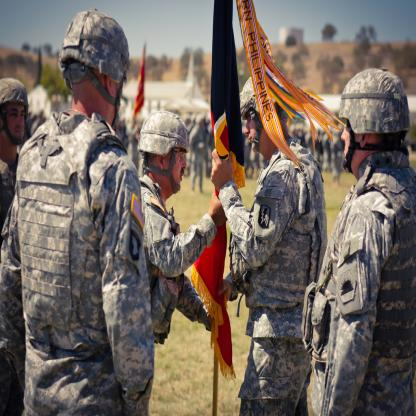Helmet: (338, 67, 412, 175), (55, 13, 128, 122), (137, 112, 190, 195), (238, 76, 288, 154), (0, 76, 30, 146), (197, 110, 204, 127), (192, 109, 200, 121)
